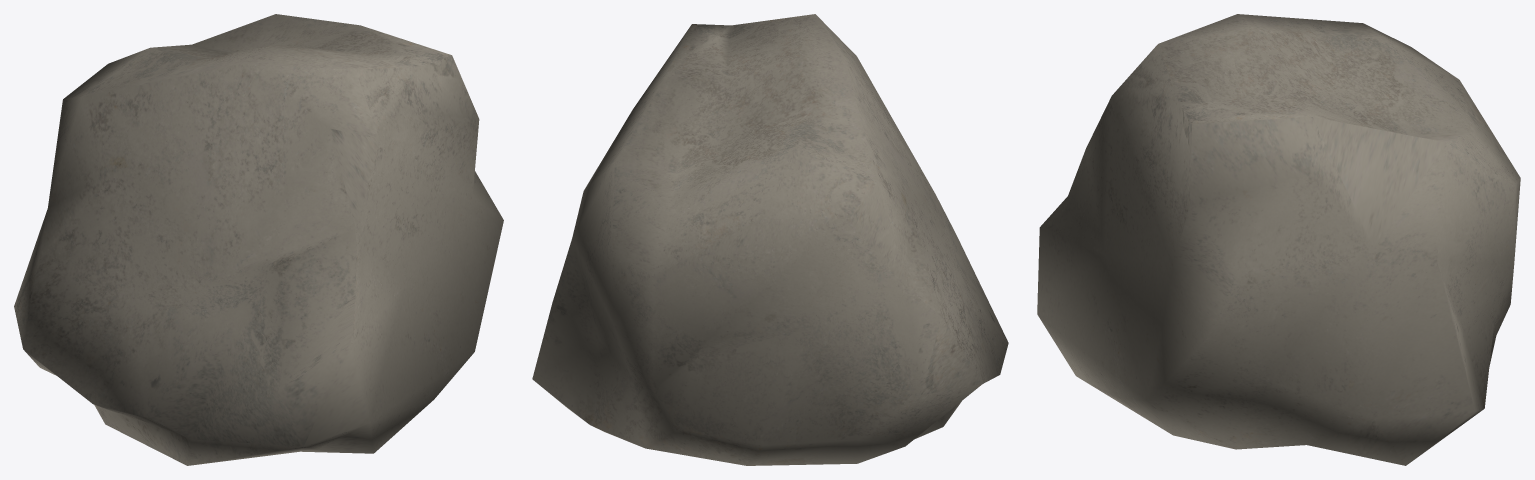
File: meteor.glb
The picture shows the model from 3 angles, left to right: view 1: azimuth 30°, elevation 25°; view 2: azimuth 150°, elevation 25°; view 3: azimuth 270°, elevation 25°; orthographic projection. The views are drawn at different scales.
Visible parts, largest first — view 1: moon_rock_02_LOD0; view 2: moon_rock_02_LOD0; view 3: moon_rock_02_LOD0.
Boxes of the visible parts, x1,y1,x2,y2 form: moon_rock_02_LOD0: (14,14,503,465); moon_rock_02_LOD0: (532,14,1008,465); moon_rock_02_LOD0: (1037,14,1520,465).
Size of what is drawn, in the model's own units: 0.251 by 0.2016 by 0.2482.
1 material, 1 textured.
